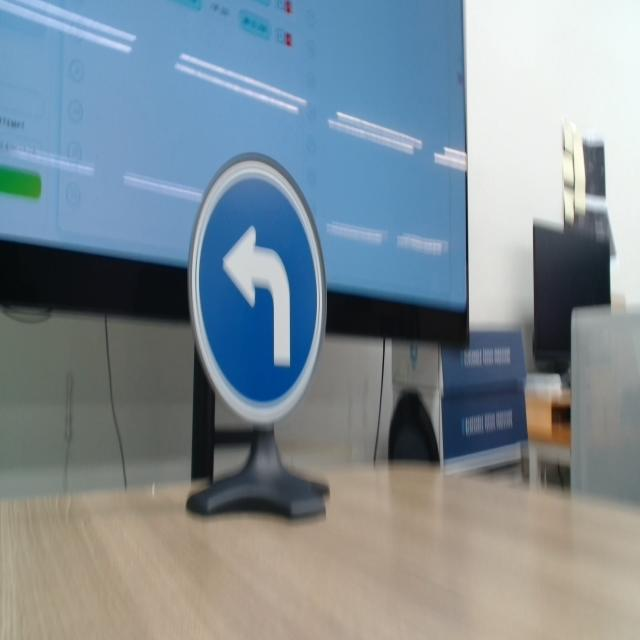left_direction: (181, 152, 341, 440)
